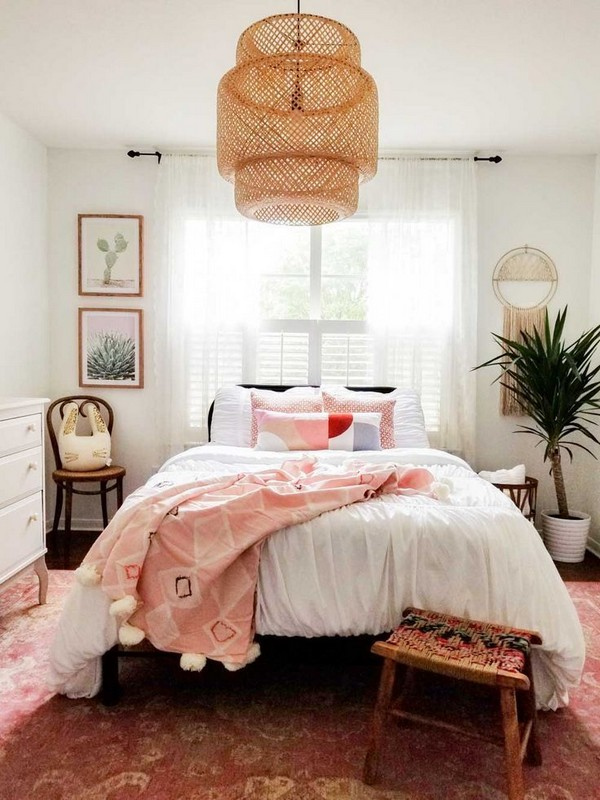bed: (92, 381, 588, 751)
chair: (49, 393, 131, 548)
stool: (366, 603, 547, 795)
table: (3, 399, 50, 616)
